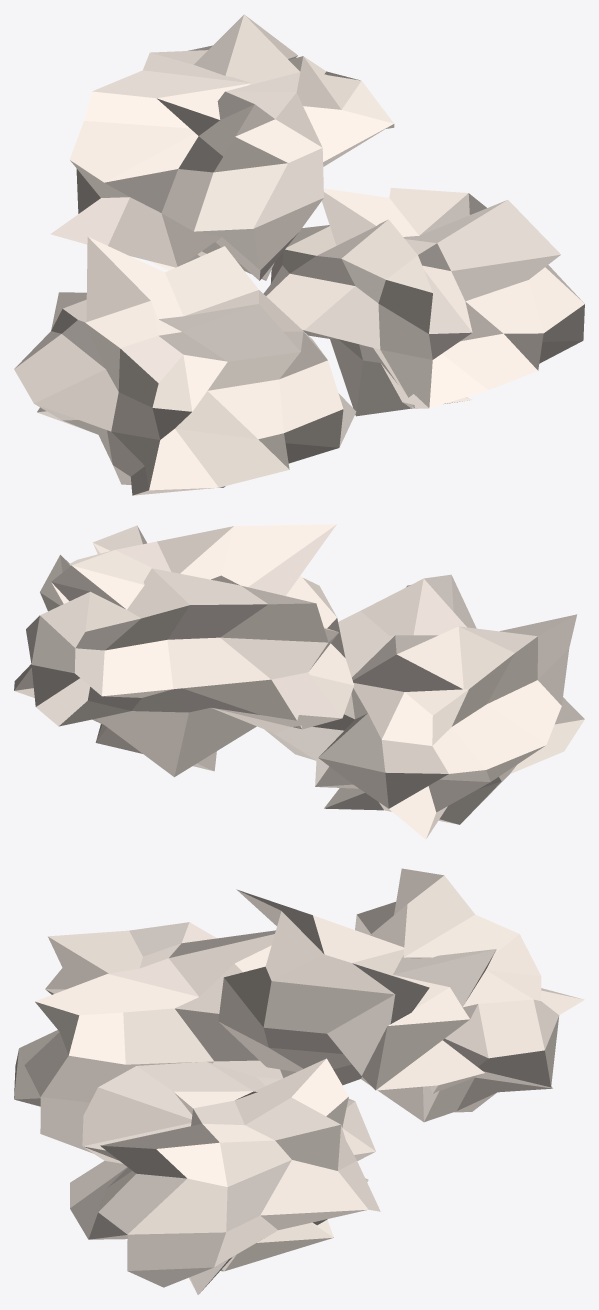
File: Crumpled-Paper.fbx
The picture shows the model from 3 angles, top to bottom: view 1: azimuth 30°, elevation 25°; view 2: azimuth 150°, elevation 25°; view 3: azimuth 270°, elevation 25°; orthographic projection. The views are drawn at different scales.
Visible parts, largest first — view 1: Crumpled-Paper-1, Crumpled-Paper-2, Crumpled-Paper-3; view 2: Crumpled-Paper-2, Crumpled-Paper-1, Crumpled-Paper-3; view 3: Crumpled-Paper-2, Crumpled-Paper-3, Crumpled-Paper-1.
Part boxes in pixels (left/top/right/bottom): Crumpled-Paper-1: left=14, top=237, right=356, bottom=495; Crumpled-Paper-2: left=50, top=14, right=394, bottom=280; Crumpled-Paper-3: left=263, top=187, right=584, bottom=416; Crumpled-Paper-2: left=26, top=524, right=353, bottom=777; Crumpled-Paper-1: left=264, top=574, right=584, bottom=839; Crumpled-Paper-3: left=14, top=525, right=216, bottom=771; Crumpled-Paper-2: left=218, top=868, right=584, bottom=1122; Crumpled-Paper-3: left=70, top=1058, right=380, bottom=1294; Crumpled-Paper-1: left=14, top=922, right=296, bottom=1153.
Size of the model in its own units: 0.3049 by 0.173 by 0.2828.
